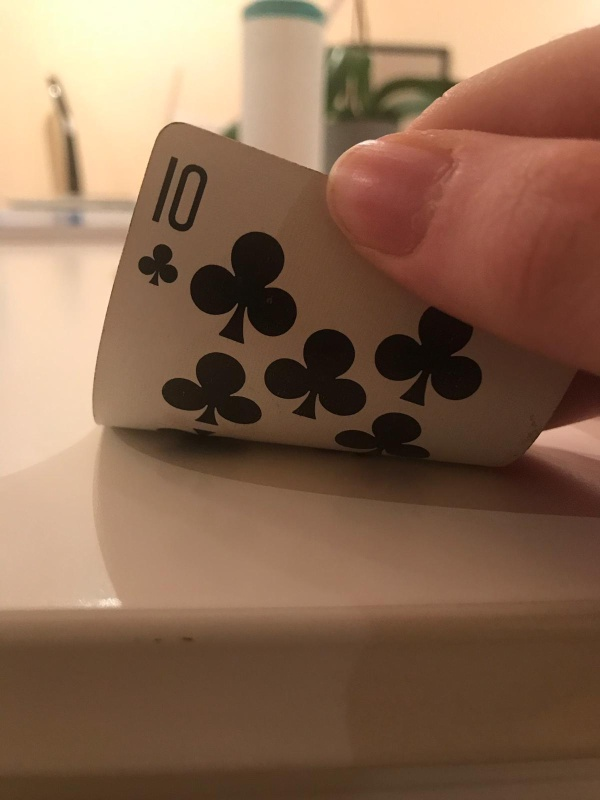C10: (130, 158, 208, 289)
